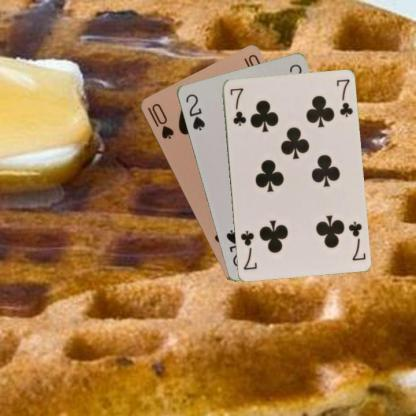10s: (145, 101, 175, 140)
2s: (183, 90, 206, 132)
7c: (346, 218, 366, 262), (227, 85, 247, 127)
